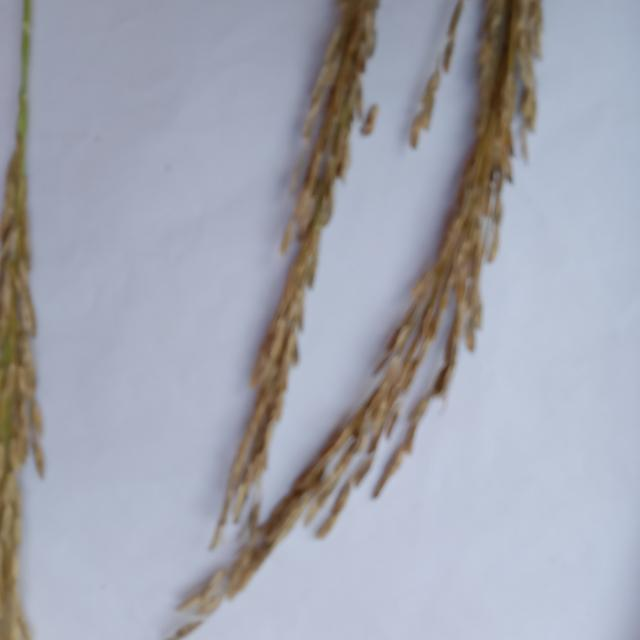Neck_Blast: (228, 4, 532, 600), (228, 0, 380, 482), (0, 159, 41, 637)
